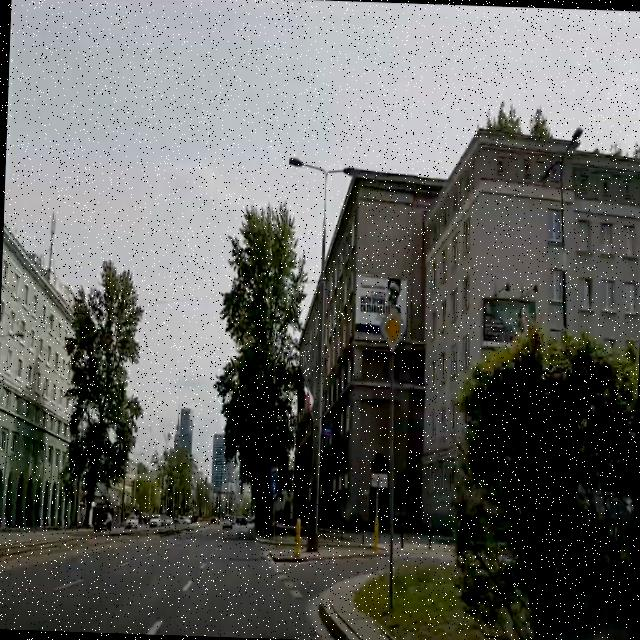Droga z pierwszenstwem: (378, 308, 407, 352)
